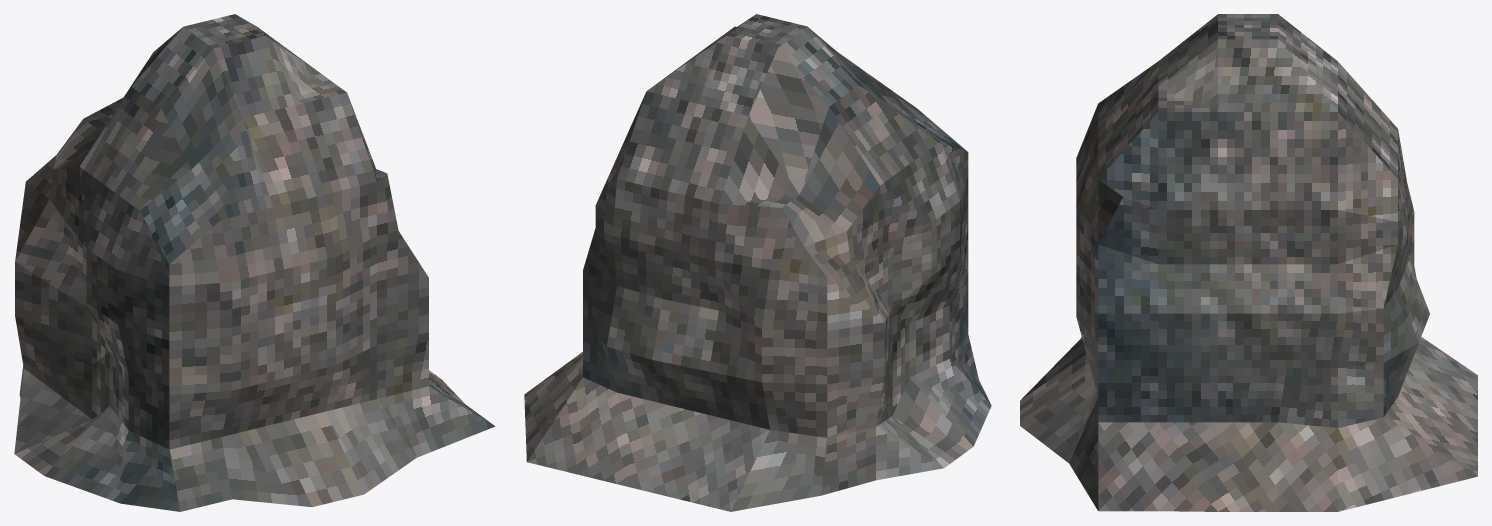
File: rock2.glb
3 renders of one model, left to right at view 1: azimuth 30°, elevation 25°; view 2: azimuth 150°, elevation 25°; view 3: azimuth 270°, elevation 25°, orthographic.
Visible parts, largest first — view 1: Cube.002; view 2: Cube.002; view 3: Cube.002.
Boxes of the visible parts, x1,y1,x2,y2 form: Cube.002: (14, 14, 495, 511); Cube.002: (524, 14, 991, 511); Cube.002: (1020, 14, 1477, 511).
Size of the model in its own units: 3.06 by 2.86 by 3.05.
1 material, 1 textured.
